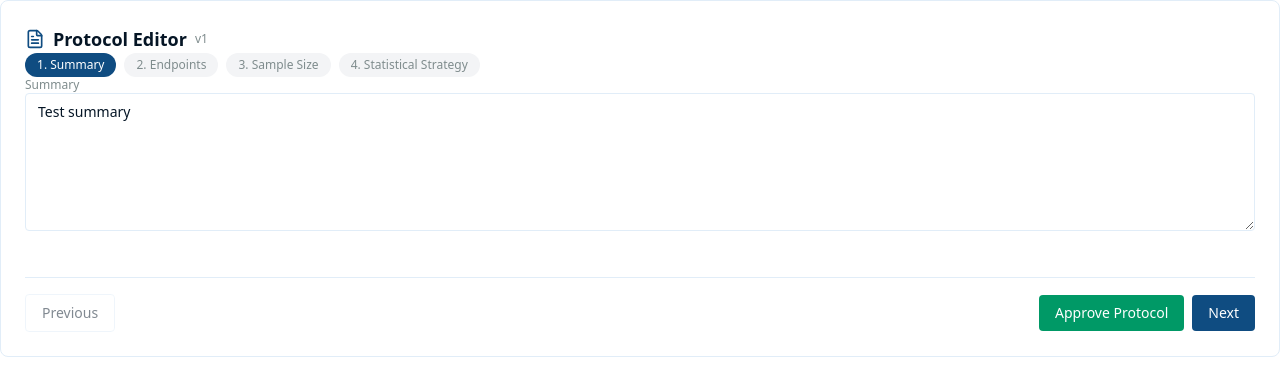
Scenario: ProtocolEditor › navigates to next step
Click the button with test id "next-btn" at [1224, 313], box x1=1192 y1=295 x2=1255 y2=331
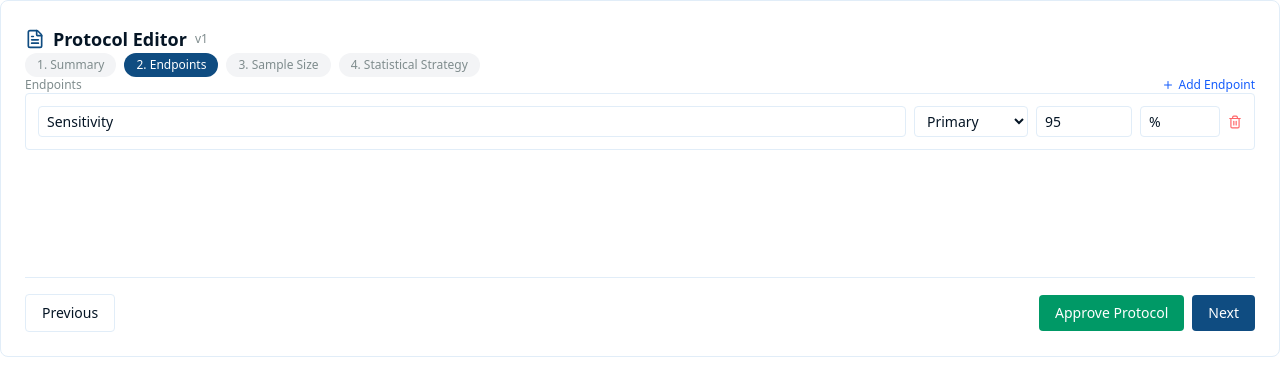
Result: the element with test id "step-1-content" is gone
Result: the element with test id "step-2-content" is shown at x1=25 y1=77 x2=1255 y2=150
